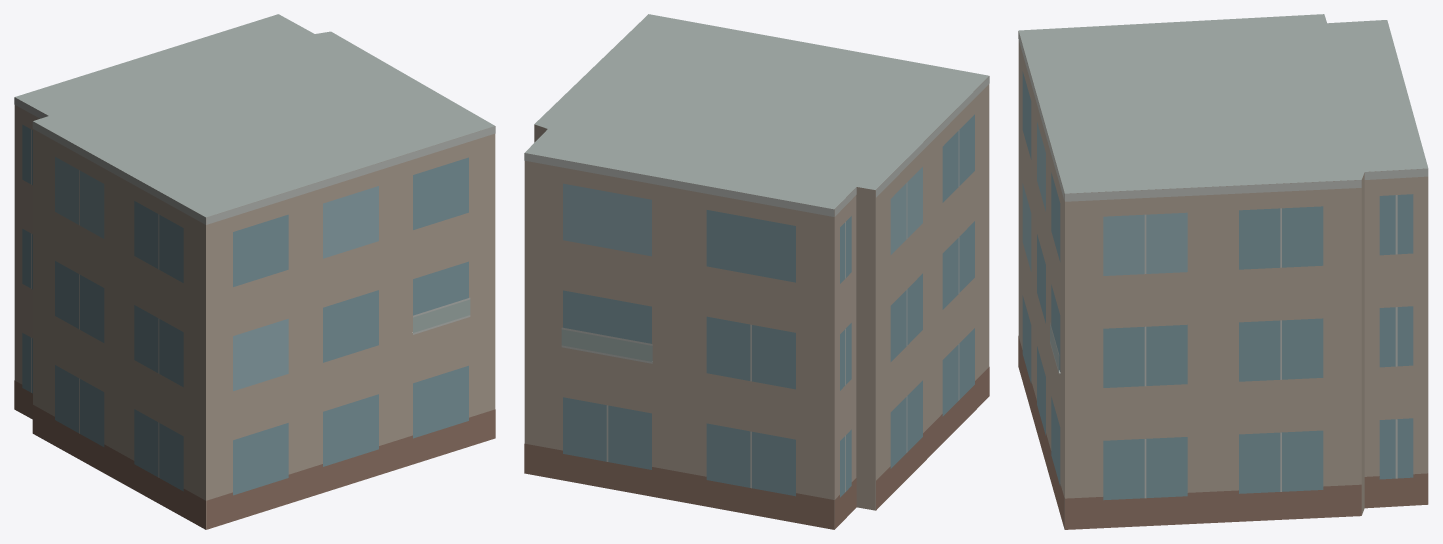
File: survey-upis-32638686.glb
3 views of the same model, side by side, from view 1: azimuth 30°, elevation 25°; view 2: azimuth 150°, elevation 25°; view 3: azimuth 270°, elevation 25° (orthographic). The views are drawn at different scales.
Parts seen in each view (by area): view 1: survey-upis-32638686.tmp; view 2: survey-upis-32638686.tmp; view 3: survey-upis-32638686.tmp.
Boxes of the visible parts, <box> form: survey-upis-32638686.tmp: <box>14,14,495,529</box>; survey-upis-32638686.tmp: <box>524,14,989,529</box>; survey-upis-32638686.tmp: <box>1018,14,1428,529</box>.
Bounding box in the file's own units: 11.58 × 10.1 × 11.17.
